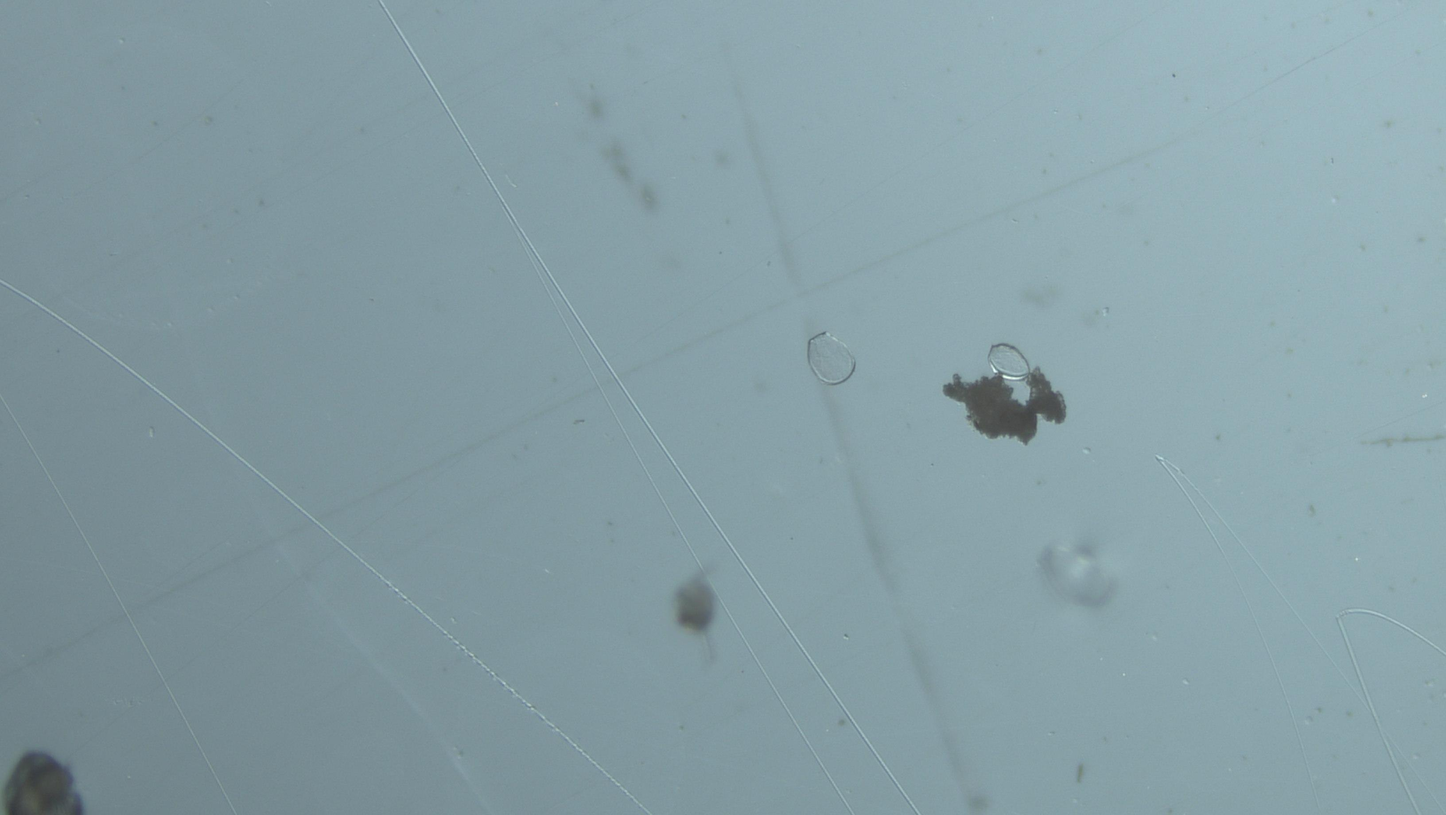dead: (808, 332, 856, 385), (988, 344, 1033, 382)
